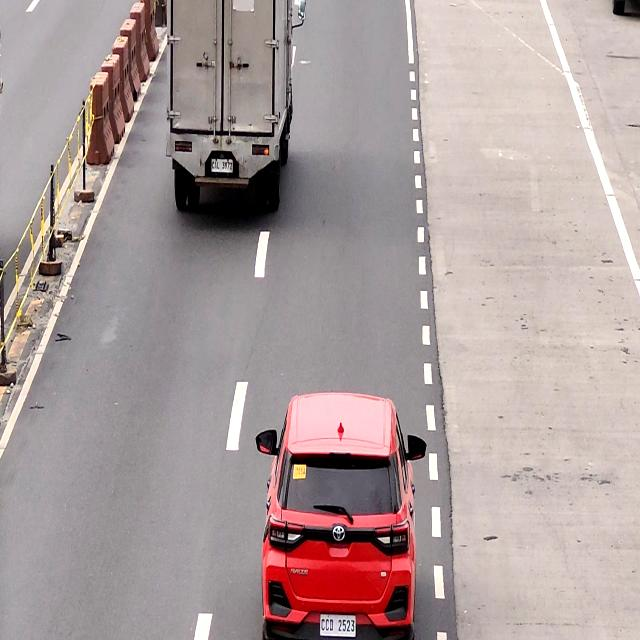Car: (264, 394, 422, 640)
License-Plate: (316, 612, 358, 640), (211, 156, 234, 175)
Truck: (171, 0, 297, 212)
